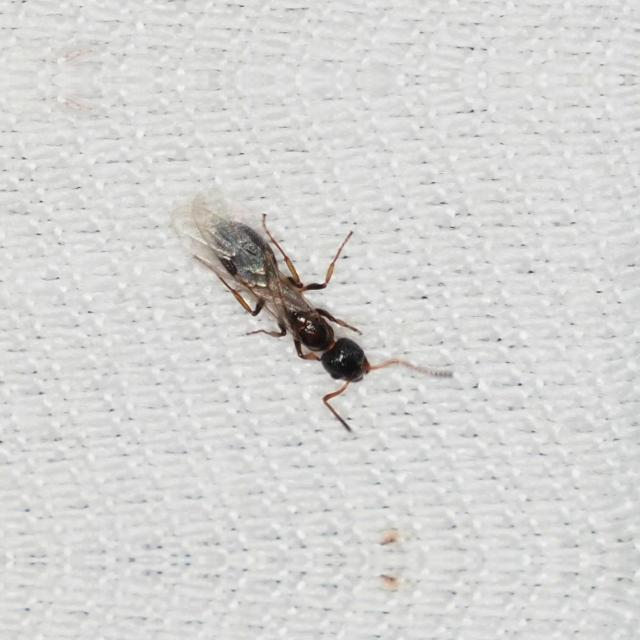Dolichoderus: (176, 200, 408, 406)
